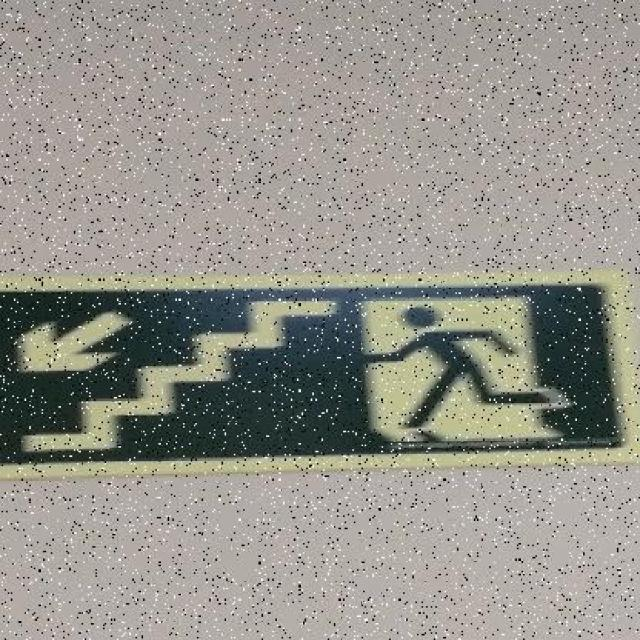emergency_exit: (1, 275, 627, 475)
